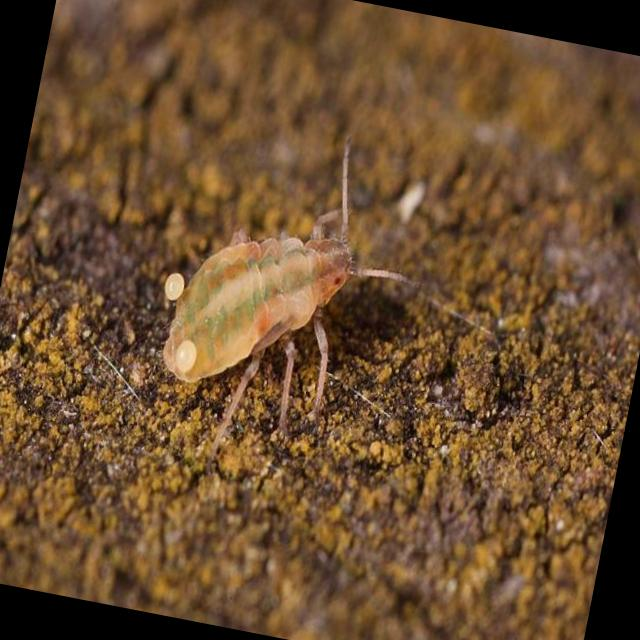aphid: (121, 90, 457, 480)
